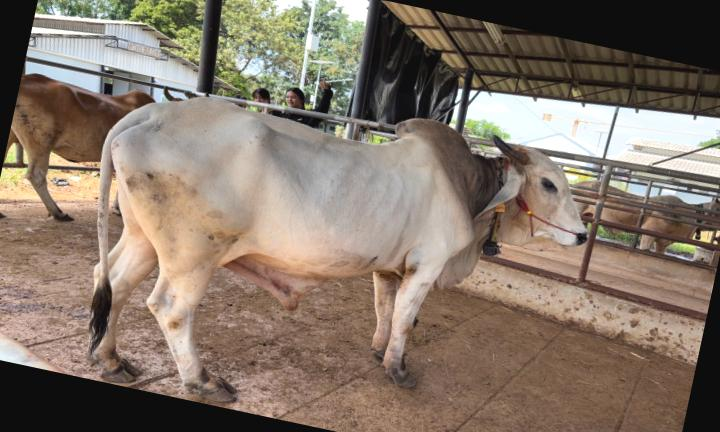Brahman: (90, 97, 585, 401)
